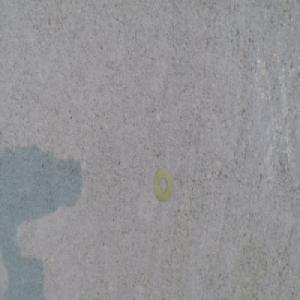Washer: (153, 168, 174, 202)
